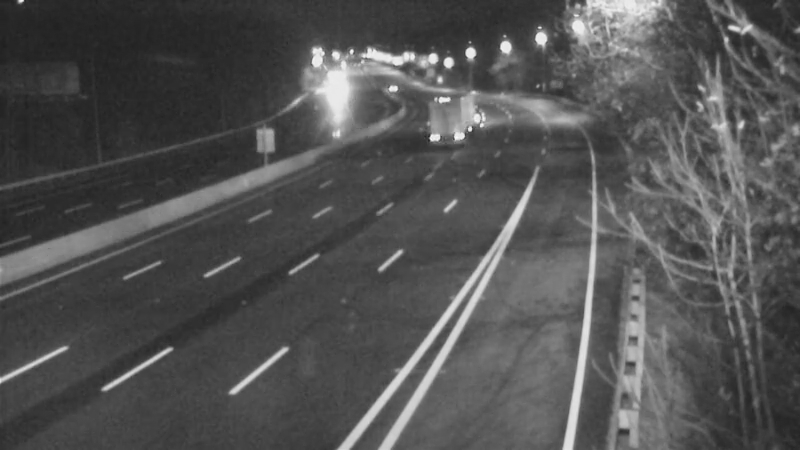vehicle: (372, 64, 422, 114), (442, 75, 492, 125), (424, 89, 474, 139), (310, 72, 360, 122)
